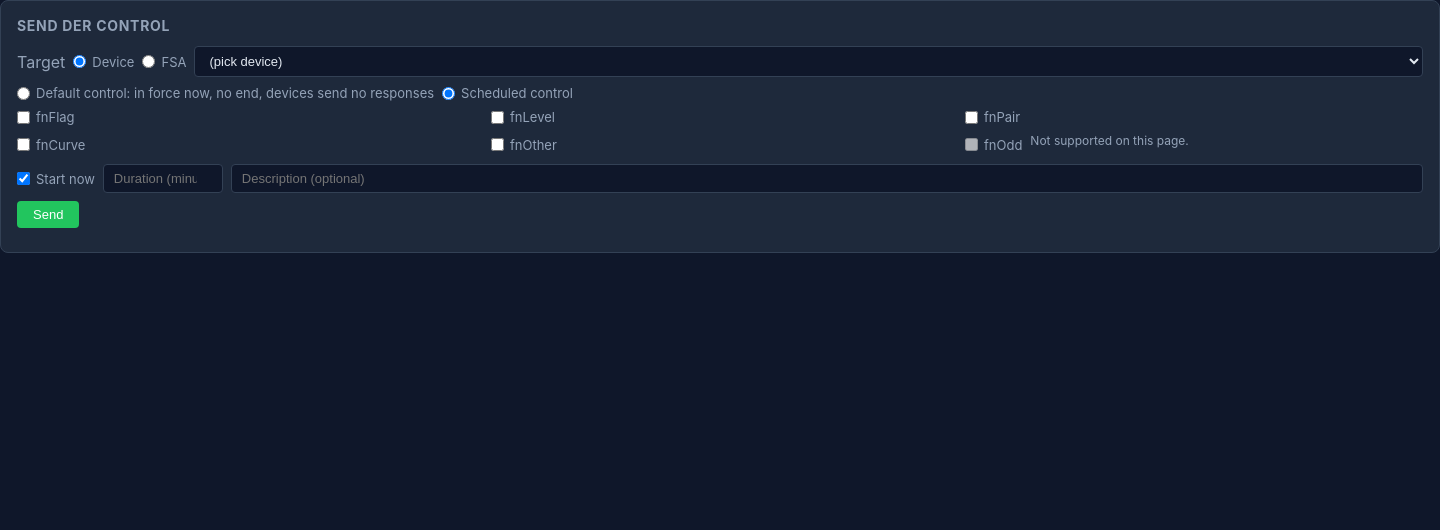
Test: DerControl: a scheduled control with several functions › a bad value or an empty selection is refused on Send with nothing posted
The image size is (1440, 530).
Select "167261211635" in the dropdown with id "controlDevice" at [809, 62], box [194,46,1423,77]
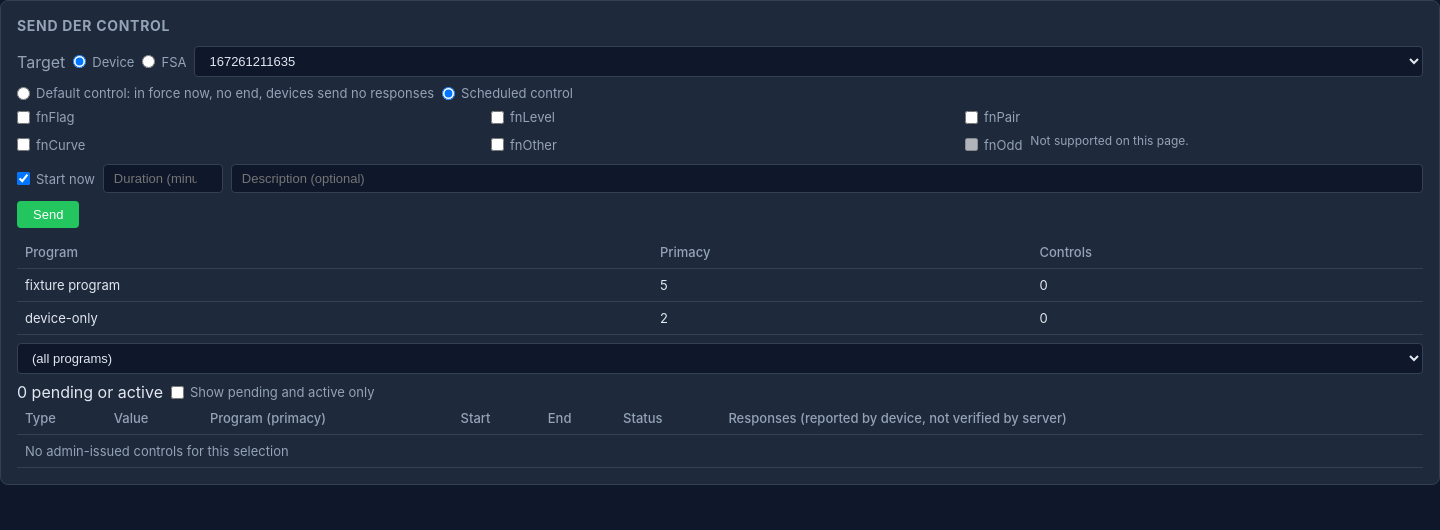
Check: the row with test id "der-control-program-row" showing "fixture program 5 0" is shown, box [17,268,1423,302]
Type "5" into the number field with id "controlDuration" at [163, 178], box [103,164,223,193]
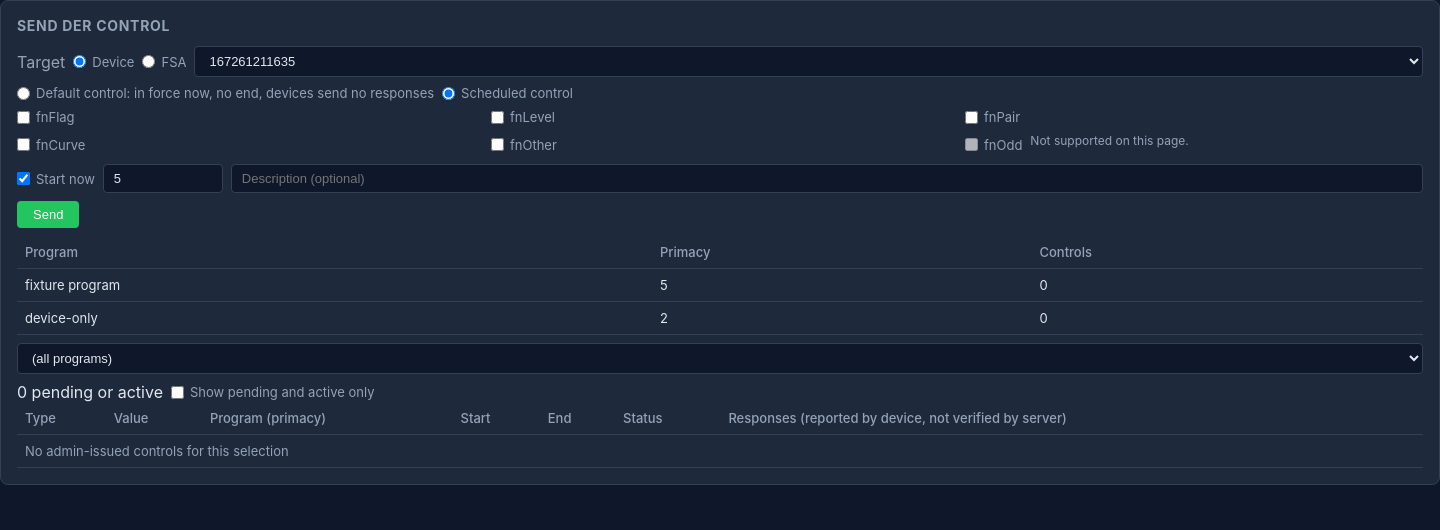
Click the button "Send" at [48, 214], box [17,201,79,228]
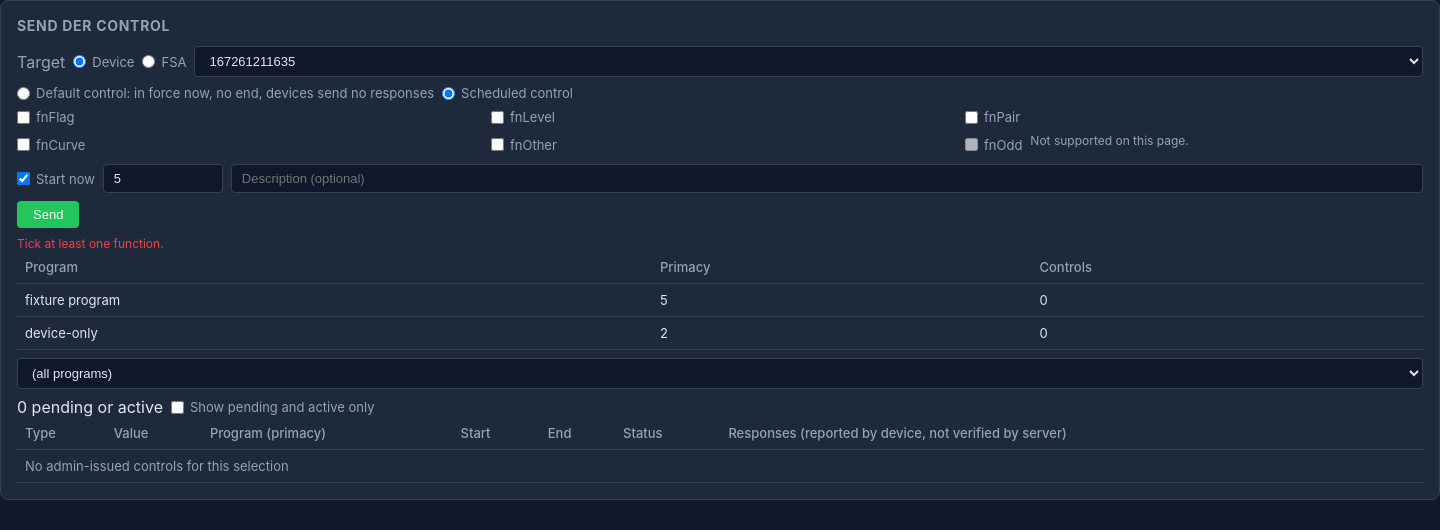
Check: the text with id "controlResult" reads "Tick at least one function.", box [17,236,164,251]
Click the checkbox labelled "fnLevel" at [498, 117], box [491,110,504,124]
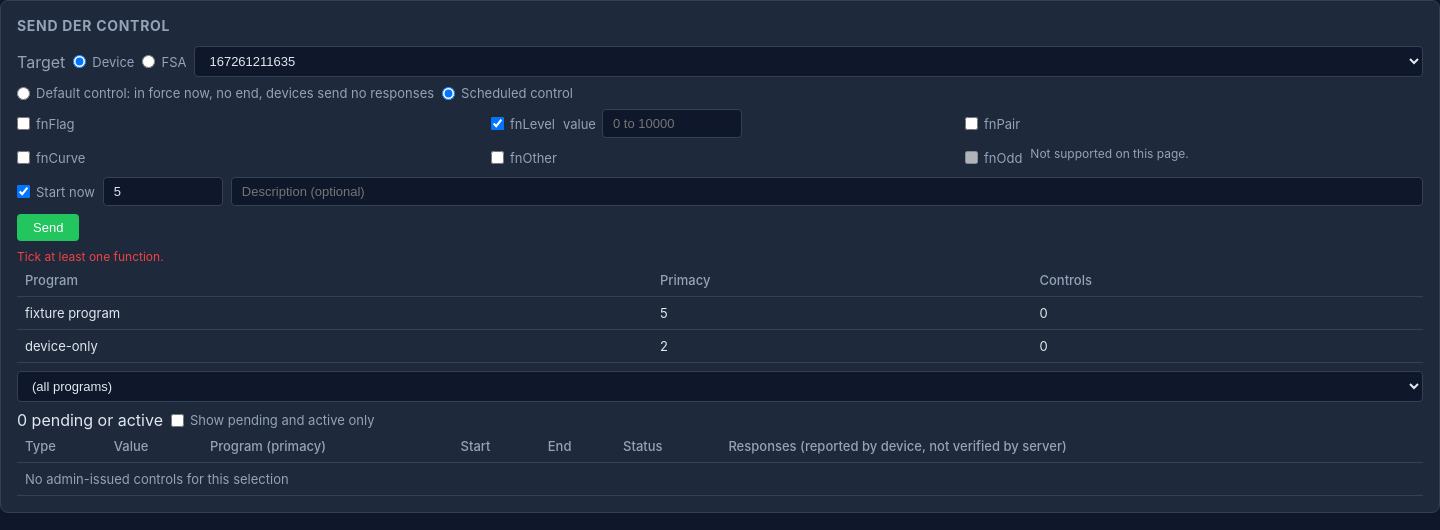
Type "10001" into the field with test id "control-fv-fnLevel" at [672, 124], box [602,109,742,138]
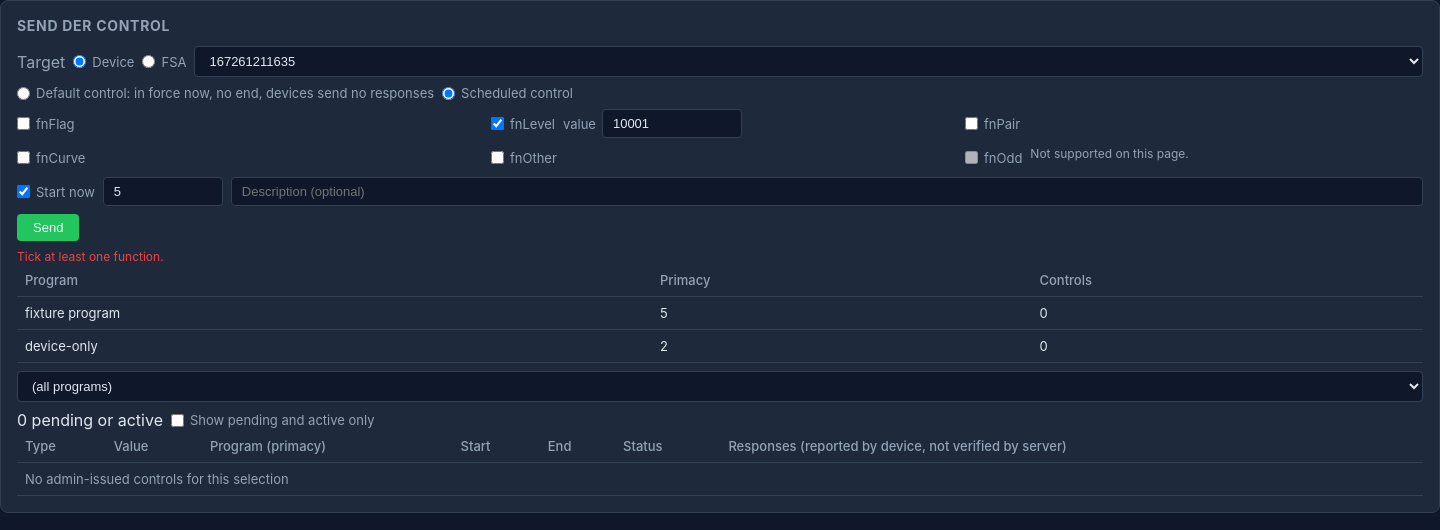
Click the button "Send" at [48, 228], box [17,214,79,241]
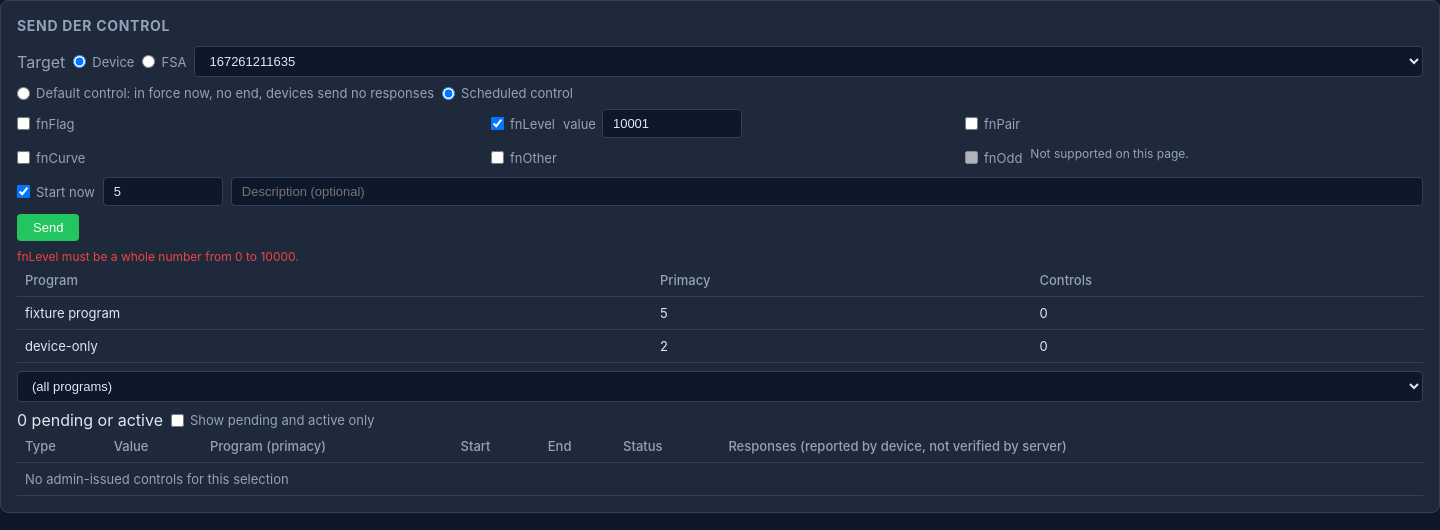
Check: the text with id "controlResult" reads "fnLevel must be a whole number from 0 to 10000.", box [17,249,299,264]
